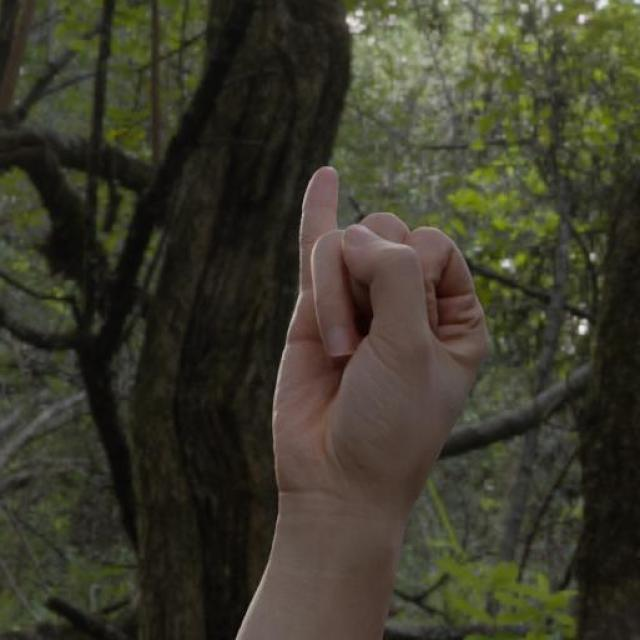I: (268, 160, 492, 510)
